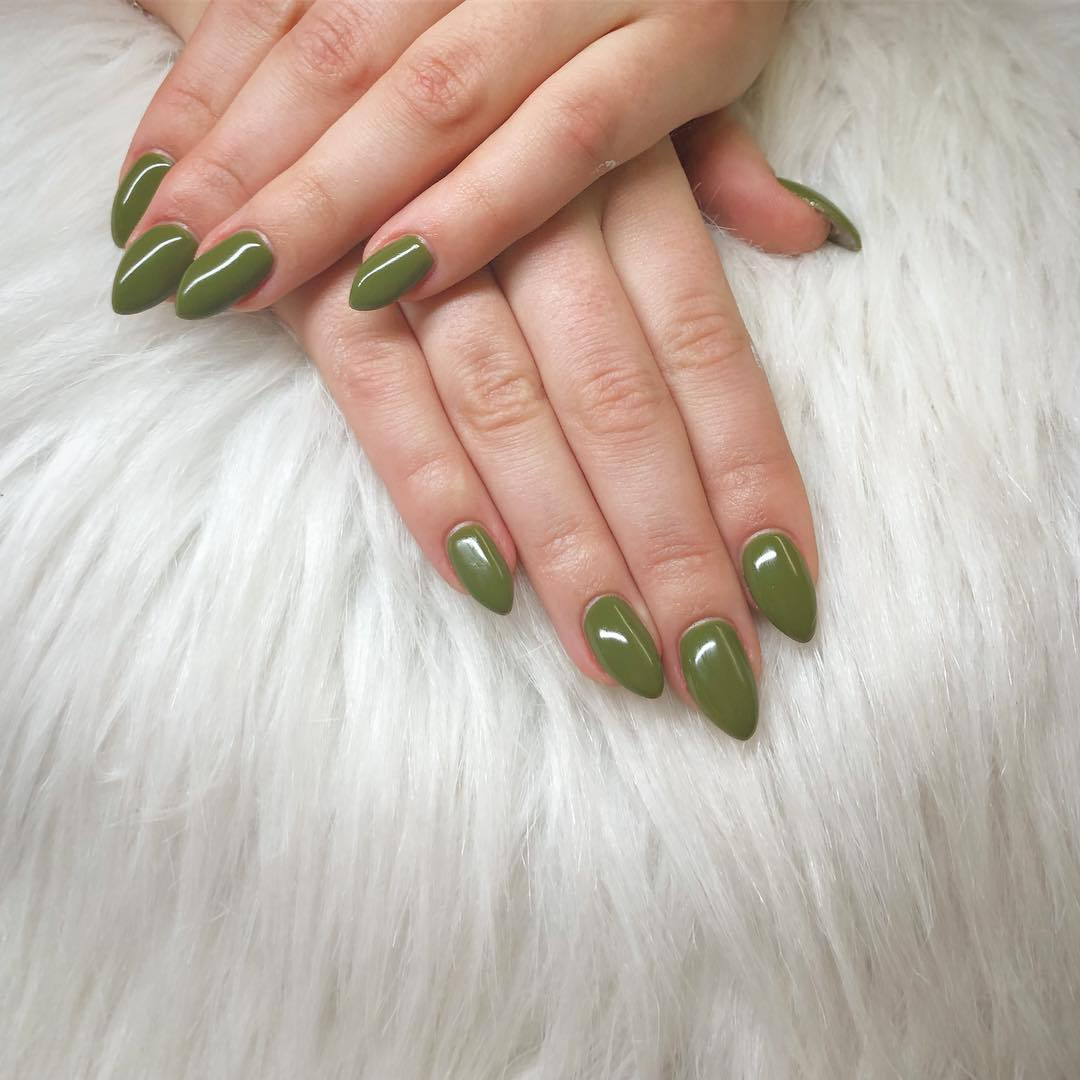hand: (280, 1, 782, 630)
